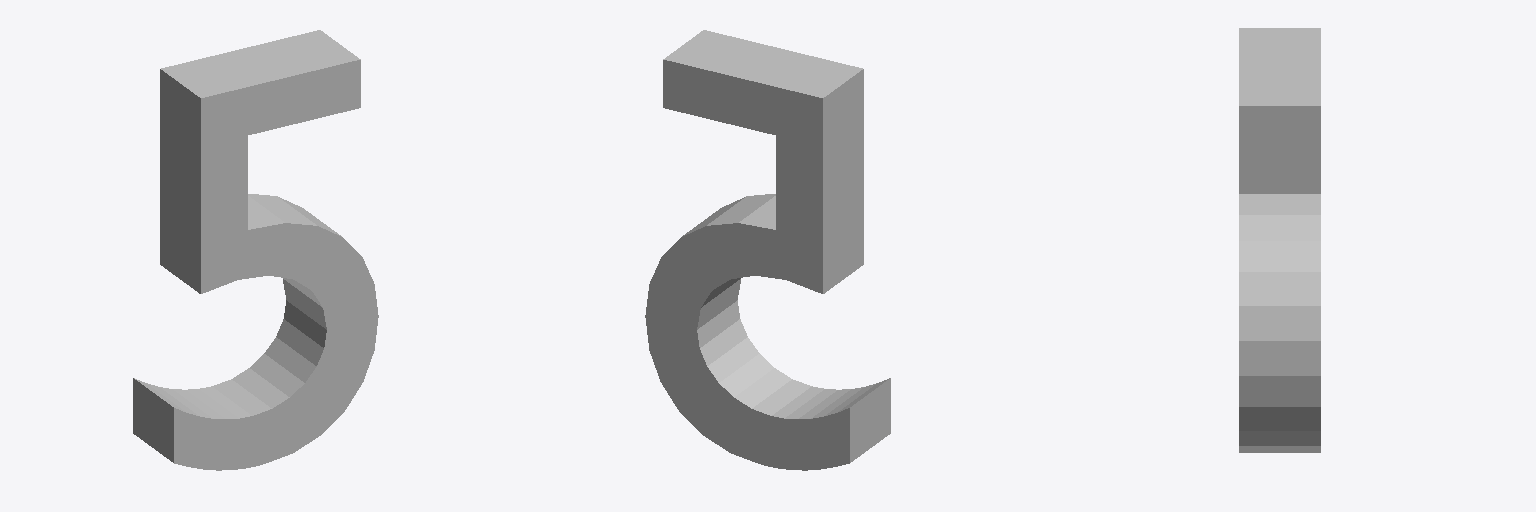
The picture shows the model from 3 angles: view 1: azimuth 30°, elevation 25°; view 2: azimuth 150°, elevation 25°; view 3: azimuth 270°, elevation 25°; orthographic projection.
Visible parts, largest first — view 1: テキスト.005; view 2: テキスト.005; view 3: テキスト.005.
Boxes of the visible parts, x1,y1,x2,y2 form: テキスト.005: [133, 30, 378, 470]; テキスト.005: [645, 30, 890, 470]; テキスト.005: [1239, 28, 1320, 452].
Size of the model in its own units: 1.16 by 2.07 by 0.4.